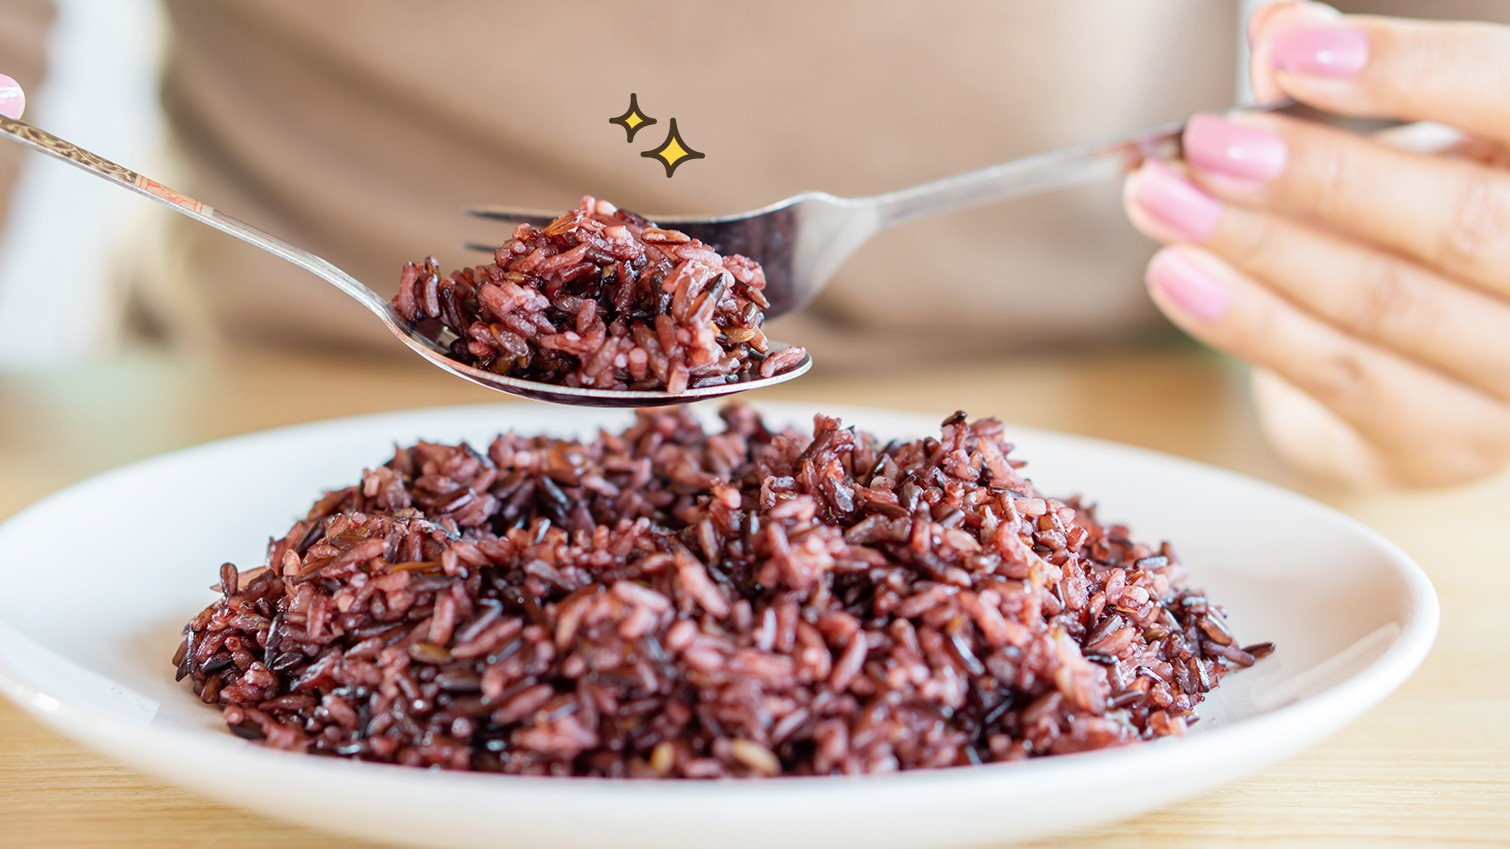Nasi Merah: (208, 359, 1157, 849)
